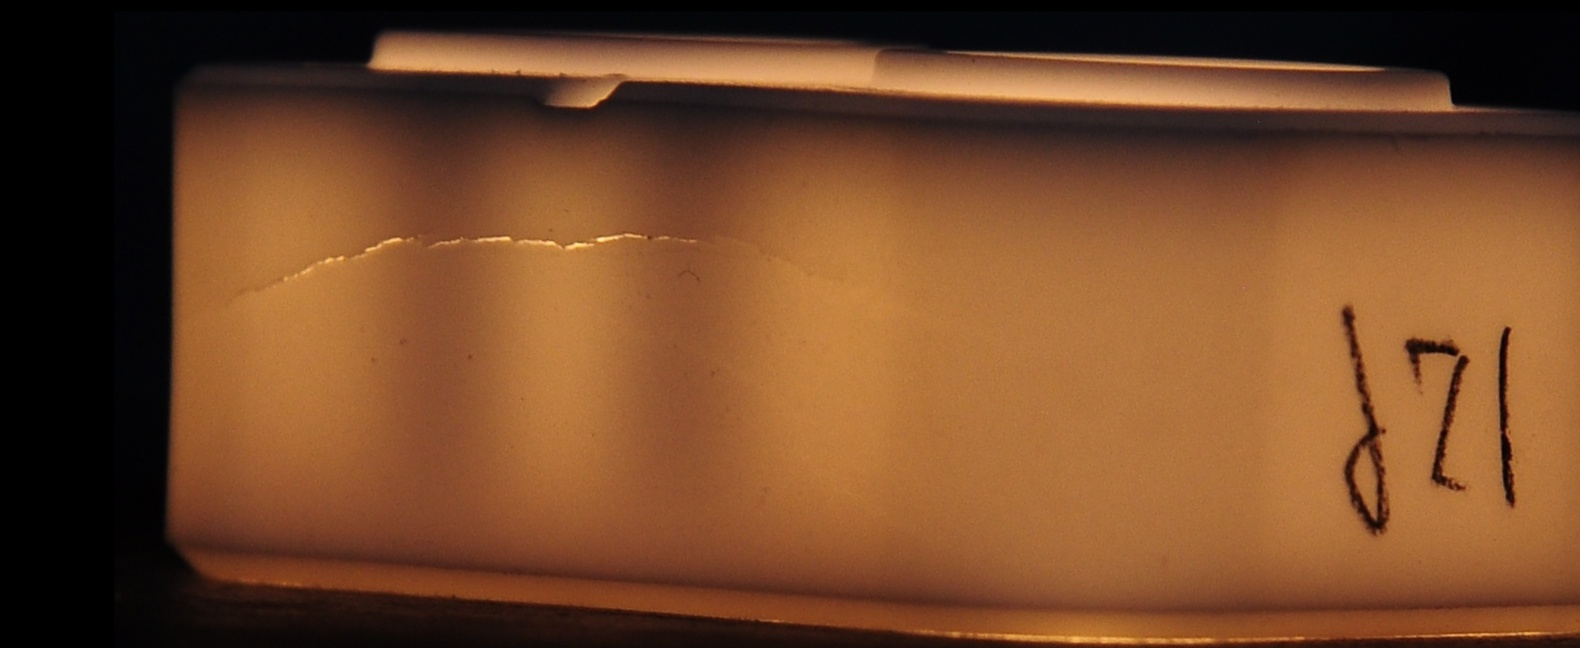flaw: (197, 208, 926, 338)
